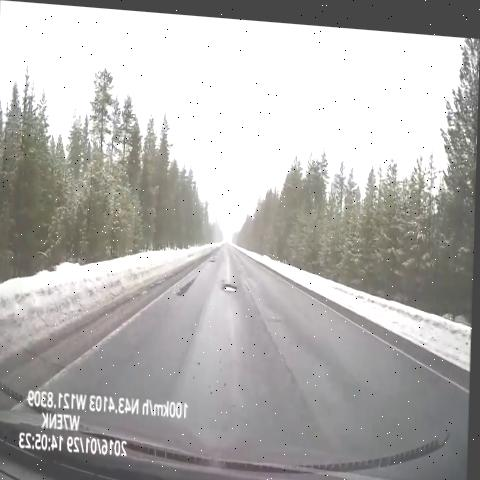pothole: (174, 263, 202, 304), (222, 271, 243, 294), (207, 249, 225, 266)
